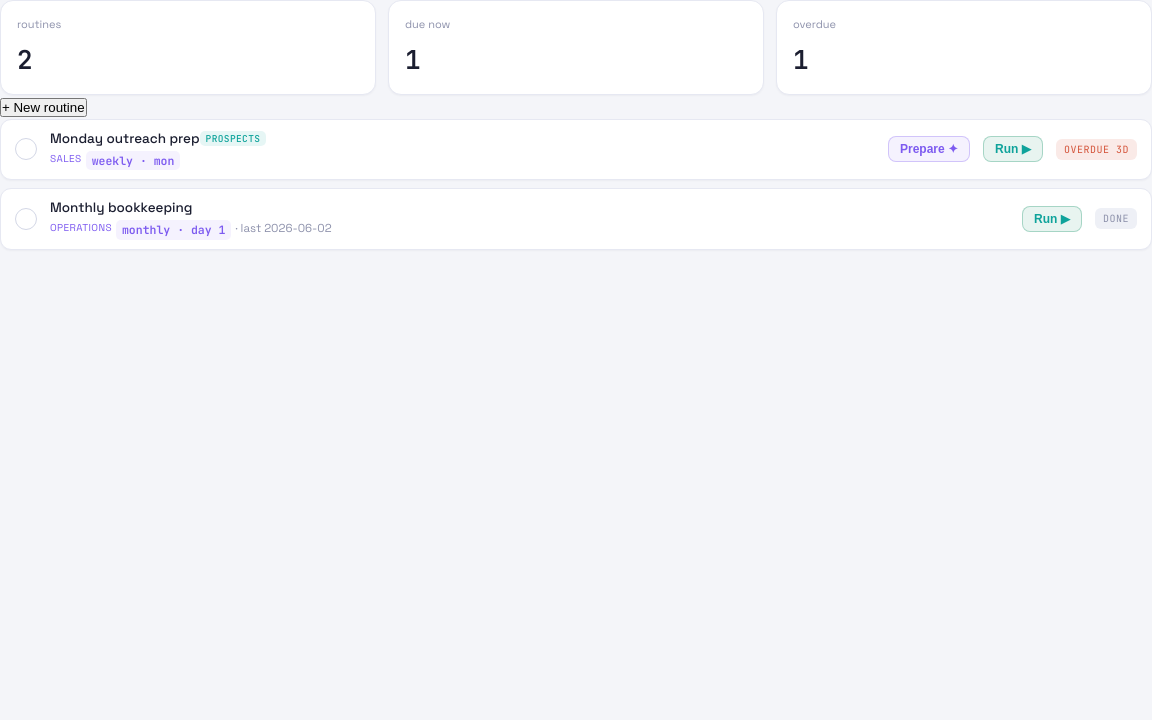
it: Routines view › Prepare shows the Aito candidates + a copyable Claude prompt
Expected: the text "Monday outreach prep" is shown, [50,130,200,146]
Click the button "Prepare ✦".
click(929, 149)  # box [888,136,970,162]
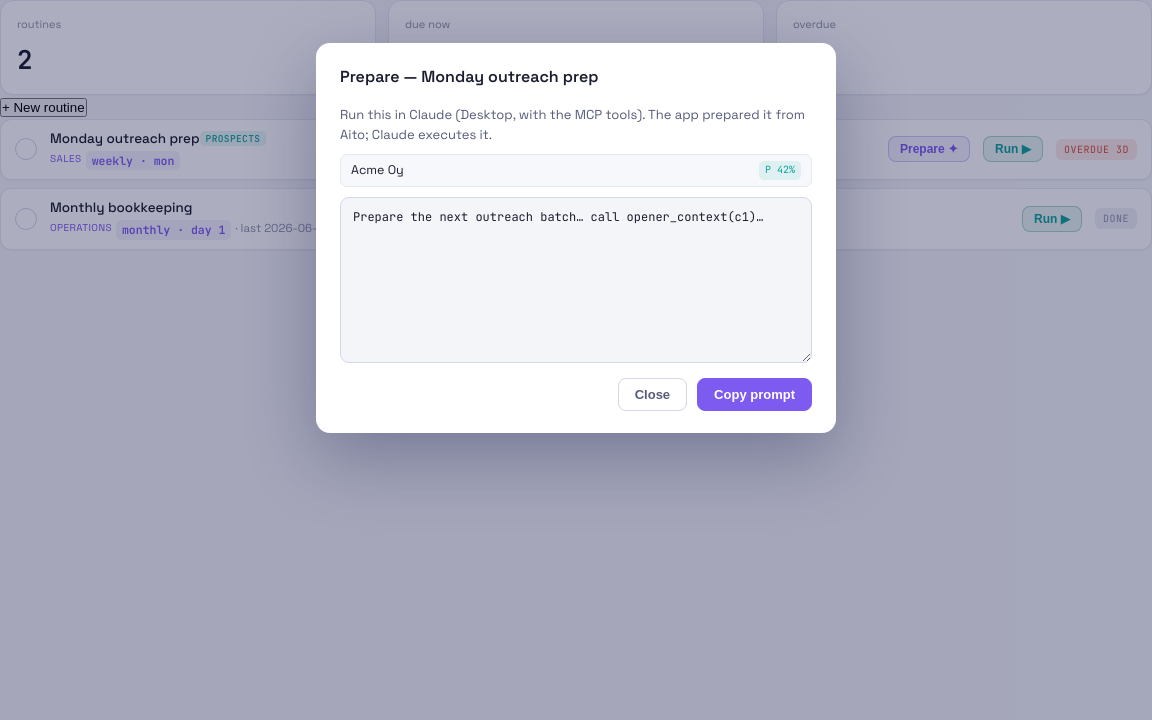
Result: the heading "Prepare — Monday outreach prep" is shown at [340,66,598,87]
Result: the text "Acme Oy" is shown at [351,161,404,180]
Result: the text box showing "opener_context" is shown at [340,197,812,363]
